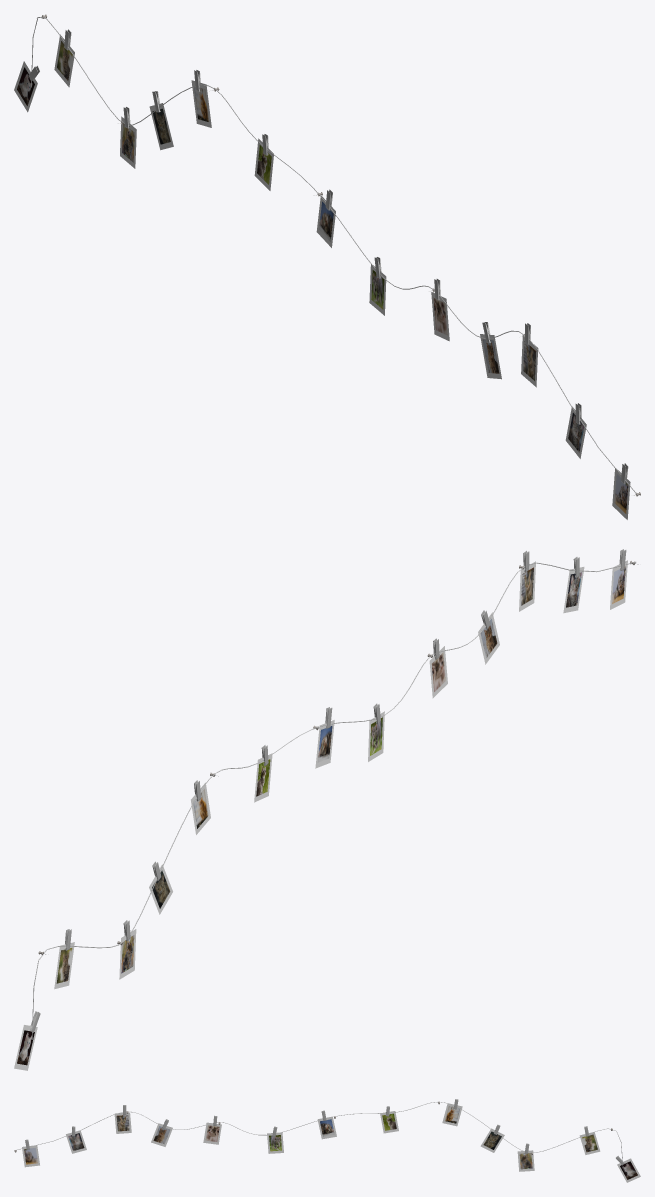
The model's file is CatPictureDeco.fbx.
3 views of the same model, one above another, from view 1: azimuth 30°, elevation 25°; view 2: azimuth 150°, elevation 25°; view 3: azimuth 270°, elevation 25° (orthographic). The views are drawn at different scales.
Parts seen in each view (by area): view 1: Photos, PhotoBlanc, epingles, CatPictureDeco; view 2: Photos, PhotoBlanc, epingles, CatPictureDeco; view 3: Photos, PhotoBlanc, epingles, CatPictureDeco.
Part boxes in pixels (bbox=[...]): Photos: bbox=[17, 41, 628, 513]; PhotoBlanc: bbox=[14, 34, 630, 519]; epingles: bbox=[28, 29, 628, 484]; CatPictureDeco: bbox=[31, 17, 637, 495]; Photos: bbox=[17, 566, 625, 1065]; PhotoBlanc: bbox=[14, 560, 627, 1070]; epingles: bbox=[30, 549, 626, 1032]; CatPictureDeco: bbox=[32, 562, 636, 1039]; Photos: bbox=[24, 1106, 637, 1179]; PhotoBlanc: bbox=[22, 1103, 640, 1182]; epingles: bbox=[25, 1099, 624, 1165]; CatPictureDeco: bbox=[14, 1101, 622, 1160].
Size of the model in its own units: 2.65 by 41.49 by 282.
Materials: 17 (13 with a texture image).
